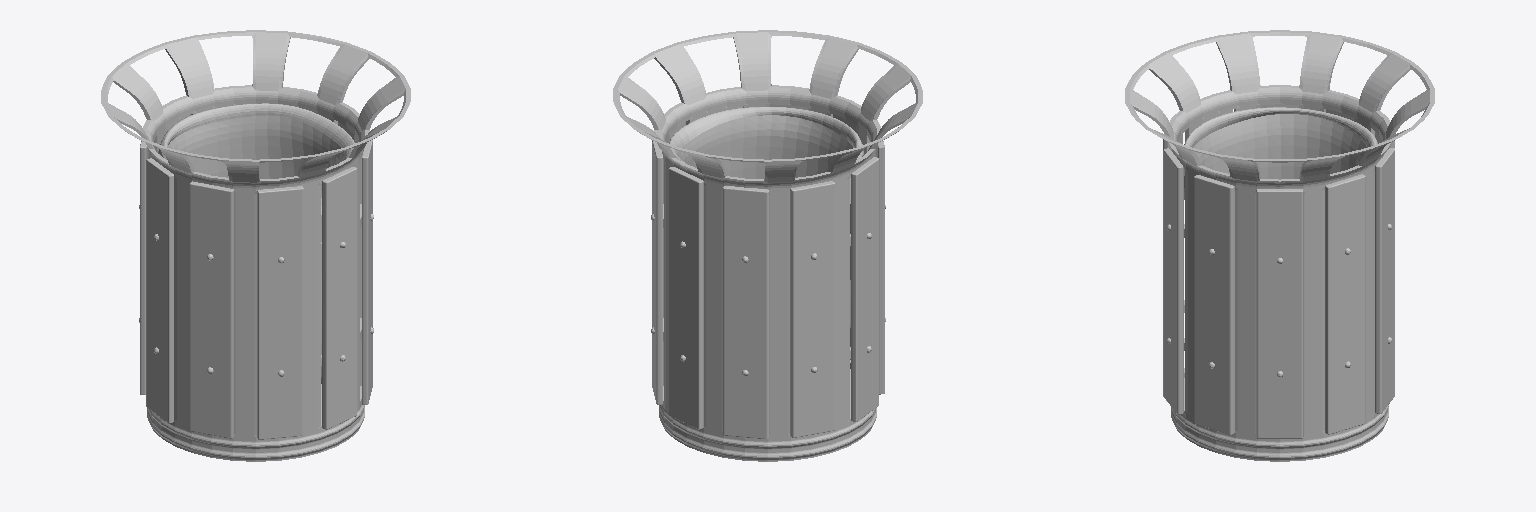
Rendered from classic bin.obj.
The picture shows the model from 3 angles: view 1: azimuth 30°, elevation 25°; view 2: azimuth 150°, elevation 25°; view 3: azimuth 270°, elevation 25°; orthographic projection.
Visible parts, largest first — view 1: classic_bin_001, classic_bin_inside_001; view 2: classic_bin_001, classic_bin_inside_001; view 3: classic_bin_001, classic_bin_inside_001.
Part boxes in pixels (bbox=[...]): classic_bin_001: bbox=[101, 30, 410, 461]; classic_bin_inside_001: bbox=[158, 103, 354, 383]; classic_bin_001: bbox=[613, 30, 922, 461]; classic_bin_inside_001: bbox=[669, 107, 863, 327]; classic_bin_001: bbox=[1125, 30, 1434, 461]; classic_bin_inside_001: bbox=[1184, 107, 1377, 199].
Size of the model in its own units: 65.89 by 75 by 65.75.